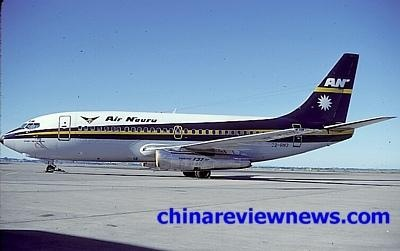airplane: (1, 50, 396, 176)
